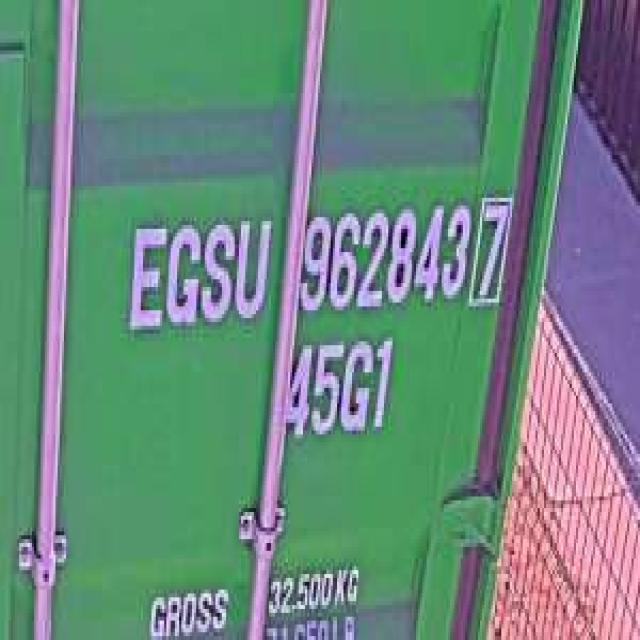dv: (467, 178, 516, 314)
owner: (120, 202, 273, 341)
serial: (297, 190, 473, 322)
size: (284, 330, 397, 450)
